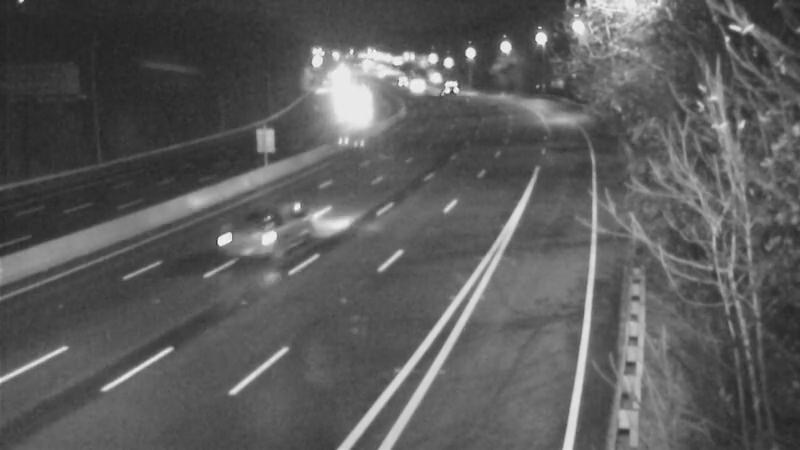vehicle: (207, 192, 287, 272), (386, 60, 436, 110), (420, 62, 470, 112), (330, 77, 380, 127)
